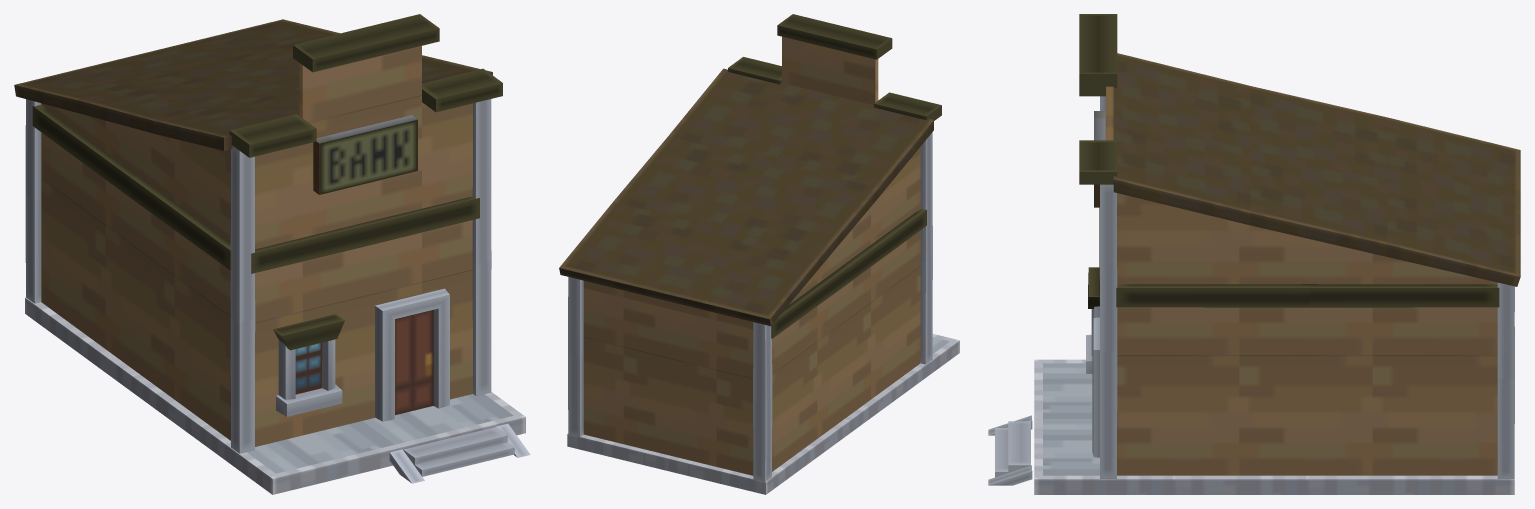
The model's file is house_v4_031.fbx.
The picture shows the model from 3 angles, left to right: view 1: azimuth 30°, elevation 25°; view 2: azimuth 150°, elevation 25°; view 3: azimuth 270°, elevation 25°; orthographic projection. The views are drawn at different scales.
Parts seen in each view (by area): view 1: house_v4_031; view 2: house_v4_031; view 3: house_v4_031.
Part boxes in pixels (box(x1,y1,x2,y2)): house_v4_031: box(14, 14, 530, 494); house_v4_031: box(559, 14, 959, 494); house_v4_031: box(988, 14, 1520, 494).
Bounding box in the file's own units: 451 × 647 × 798.
